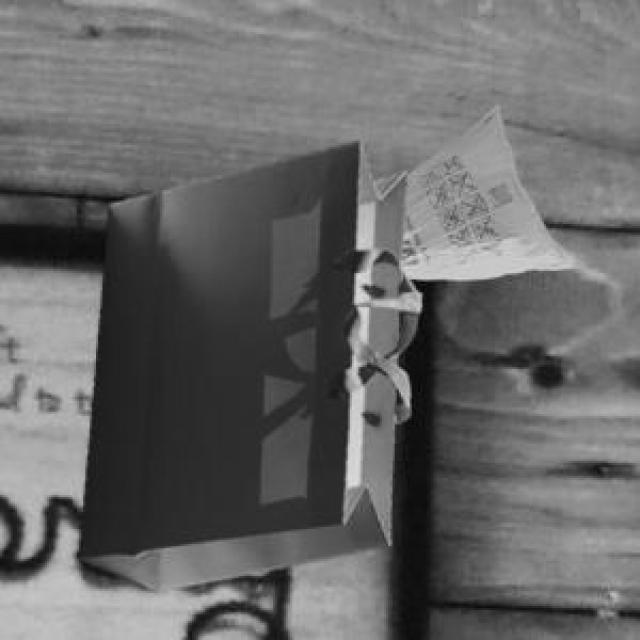paper: (75, 137, 416, 587)
